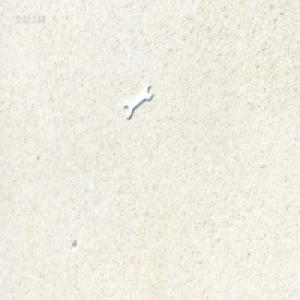Wrench: (123, 83, 154, 119)
